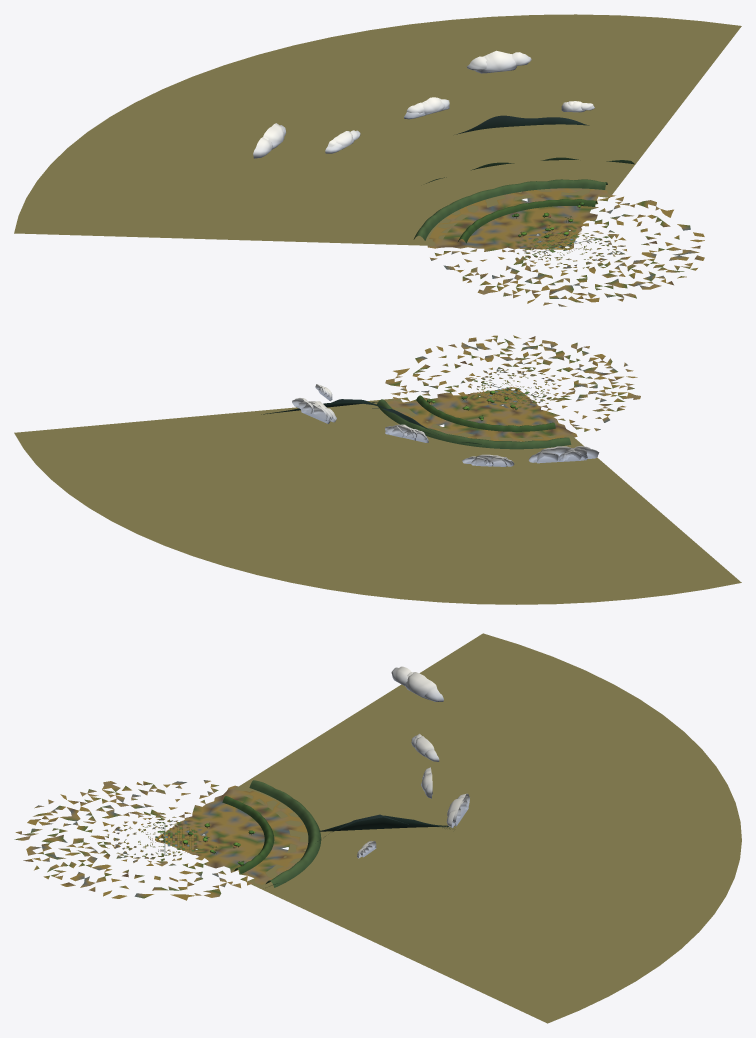
File: arena_kedah.glb
The picture shows the model from 3 angles, top to bottom: view 1: azimuth 30°, elevation 25°; view 2: azimuth 150°, elevation 25°; view 3: azimuth 270°, elevation 25°; orthographic projection. The views are drawn at different scales.
Visible parts, largest first — view 1: EnvFar_MatGround_padang, EnvFar_MatLeaf_canopy, EnvFar_MatCloth_guni, EnvFar_MatRock_kerbau; view 2: EnvFar_MatGround_padang, EnvFar_MatLeaf_canopy, EnvFar_MatCloth_guni, EnvFar_MatRock_kerbau; view 3: EnvFar_MatGround_padang, EnvFar_MatLeaf_canopy, EnvFar_MatCloth_guni, EnvFar_MatRock_kerbau.
Boxes of the visible parts, x1,y1,x2,y2 form: EnvFar_MatGround_padang: (14, 14, 741, 306); EnvFar_MatLeaf_canopy: (413, 179, 607, 243); EnvFar_MatCloth_guni: (253, 50, 594, 158); EnvFar_MatRock_kerbau: (426, 115, 634, 253); EnvFar_MatGround_padang: (14, 335, 741, 604); EnvFar_MatLeaf_canopy: (377, 391, 571, 449); EnvFar_MatCloth_guni: (292, 384, 599, 466); EnvFar_MatRock_kerbau: (261, 383, 539, 444); EnvFar_MatGround_padang: (14, 633, 741, 1023); EnvFar_MatLeaf_canopy: (183, 780, 321, 887); EnvFar_MatCloth_guni: (357, 666, 469, 858); EnvFar_MatRock_kerbau: (165, 814, 454, 886).
Bounding box in the file's own units: 1729 × 163 × 1363.
